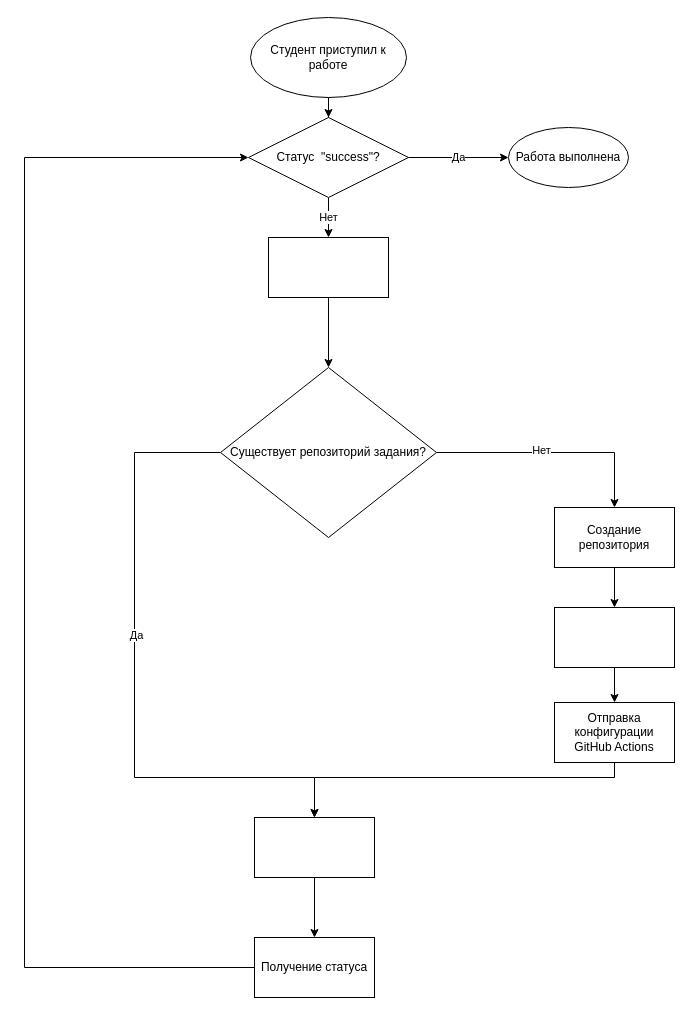
Image size: 692x1015. Some labels were removed from this diagram. The centre of each missing label's shape, as x and y in pixels:
"Загрузка задания" belongs at point 328,267.
"Отправка тестовых данных" belongs at point 614,637.
"Отправка файла работы" belongs at point 314,847.
